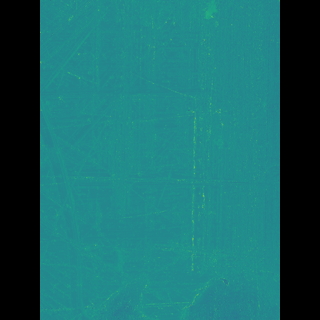Loch: (67, 0, 210, 320)
